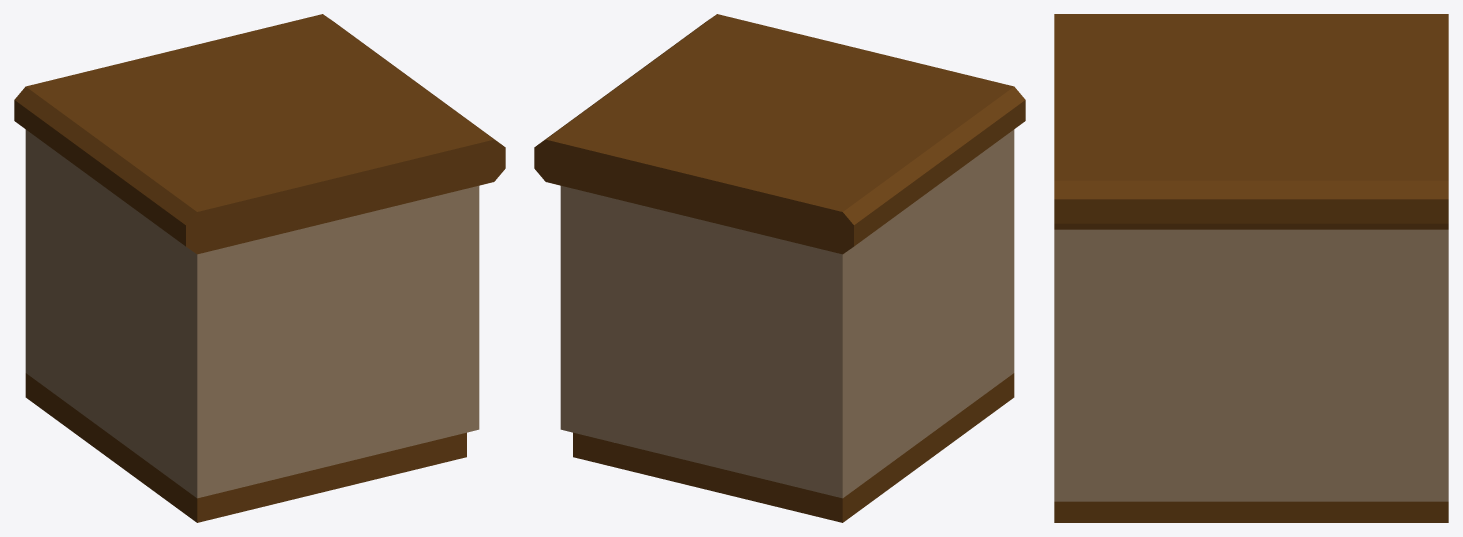
Rendered from SM_Bench.fbx.
The picture shows the model from 3 angles, left to right: view 1: azimuth 30°, elevation 25°; view 2: azimuth 150°, elevation 25°; view 3: azimuth 270°, elevation 25°; orthographic projection. The views are drawn at different scales.
Parts seen in each view (by area): view 1: SM_Bench_BackBevel; view 2: SM_Bench_BackBevel; view 3: SM_Bench_BackBevel.
Part boxes in pixels (<box>): SM_Bench_BackBevel: <box>14,14,505,522</box>; SM_Bench_BackBevel: <box>534,14,1025,522</box>; SM_Bench_BackBevel: <box>1054,14,1448,522</box>.
Bounding box in the file's own units: 108 × 100 × 100.
